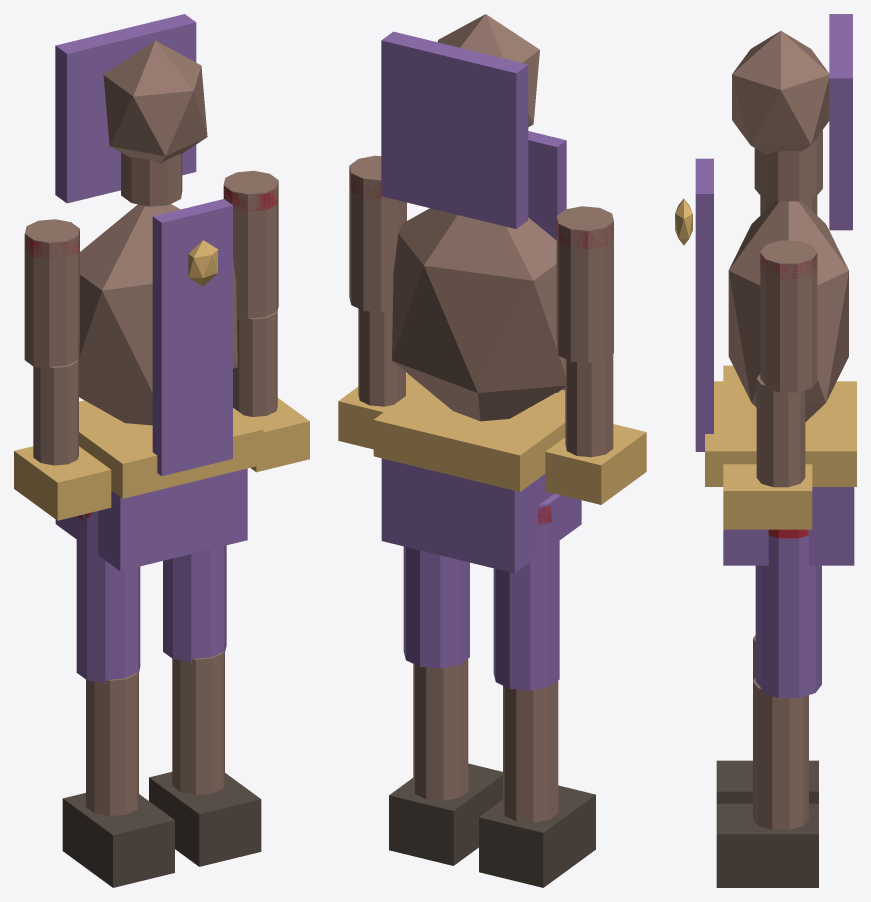
Rendered from fighter_sibyl.glb.
3 views of the same model, side by side, from view 1: azimuth 30°, elevation 25°; view 2: azimuth 150°, elevation 25°; view 3: azimuth 270°, elevation 25° (orthographic). The views are drawn at different scales.
Parts seen in each view (by area): view 1: STOLE, TORSO, VEIL, PELVIS, HEAD, LEG_UPPER_L, ARM_UPPER_L, LEG_END_L, BELT, LEG_LOWER_L, LEG_LOWER_R, LEG_END_R (+9 smaller); view 2: TORSO, VEIL, PELVIS, BELT, LEG_UPPER_L, ARM_UPPER_L, LEG_END_L, LEG_UPPER_R, LEG_LOWER_L, LEG_LOWER_R, LEG_END_R, ARM_UPPER_R (+6 smaller); view 3: TORSO, LEG_UPPER_R, HEAD, BELT, ARM_UPPER_R, LEG_LOWER_R, LEG_END_R, STOLE, PELVIS, VEIL, ARM_END_R, ARM_LOWER_R (+4 smaller).
Part boxes in pixels (left/top/right/bottom): STOLE: left=152, top=199, right=232, bottom=475; TORSO: left=79, top=204, right=237, bottom=425; VEIL: left=55, top=14, right=196, bottom=203; PELVIS: left=55, top=468, right=247, bottom=571; HEAD: left=103, top=40, right=207, bottom=163; LEG_UPPER_L: left=76, top=511, right=140, bottom=683; ARM_UPPER_L: left=24, top=219, right=79, bottom=367; LEG_END_L: left=62, top=793, right=174, bottom=887; BELT: left=79, top=400, right=263, bottom=498; LEG_LOWER_L: left=86, top=672, right=138, bottom=815; LEG_LOWER_R: left=172, top=651, right=224, bottom=794; LEG_END_R: left=149, top=772, right=261, bottom=866; TORSO: left=392, top=208, right=565, bottom=421; VEIL: left=381, top=31, right=528, bottom=228; PELVIS: left=381, top=458, right=581, bottom=573; BELT: left=373, top=385, right=565, bottom=491; LEG_UPPER_L: left=493, top=493, right=559, bottom=690; ARM_UPPER_L: left=556, top=206, right=613, bottom=362; LEG_END_L: left=479, top=785, right=595, bottom=887; LEG_UPPER_R: left=403, top=546, right=469, bottom=668; LEG_LOWER_L: left=503, top=681, right=558, bottom=822; LEG_LOWER_R: left=413, top=659, right=468, bottom=800; LEG_END_R: left=389, top=763, right=502, bottom=865; ARM_UPPER_R: left=349, top=155, right=406, bottom=312; TORSO: left=728, top=201, right=848, bottom=421; LEG_UPPER_R: left=755, top=529, right=821, bottom=697; HEAD: left=732, top=31, right=829, bottom=154; BELT: left=705, top=381, right=856, bottom=486; ARM_UPPER_R: left=760, top=240, right=817, bottom=392; LEG_LOWER_R: left=753, top=678, right=808, bottom=829; LEG_END_R: left=716, top=803, right=818, bottom=887; STOLE: left=695, top=158, right=713, bottom=451; PELVIS: left=723, top=487, right=854, bottom=565; VEIL: left=829, top=14, right=852, bottom=230; ARM_END_R: left=723, top=464, right=812, bottom=529; ARM_LOWER_R: left=756, top=374, right=805, bottom=487.
Bounding box in the file's own units: 0.5653 × 1.73 × 0.347.
